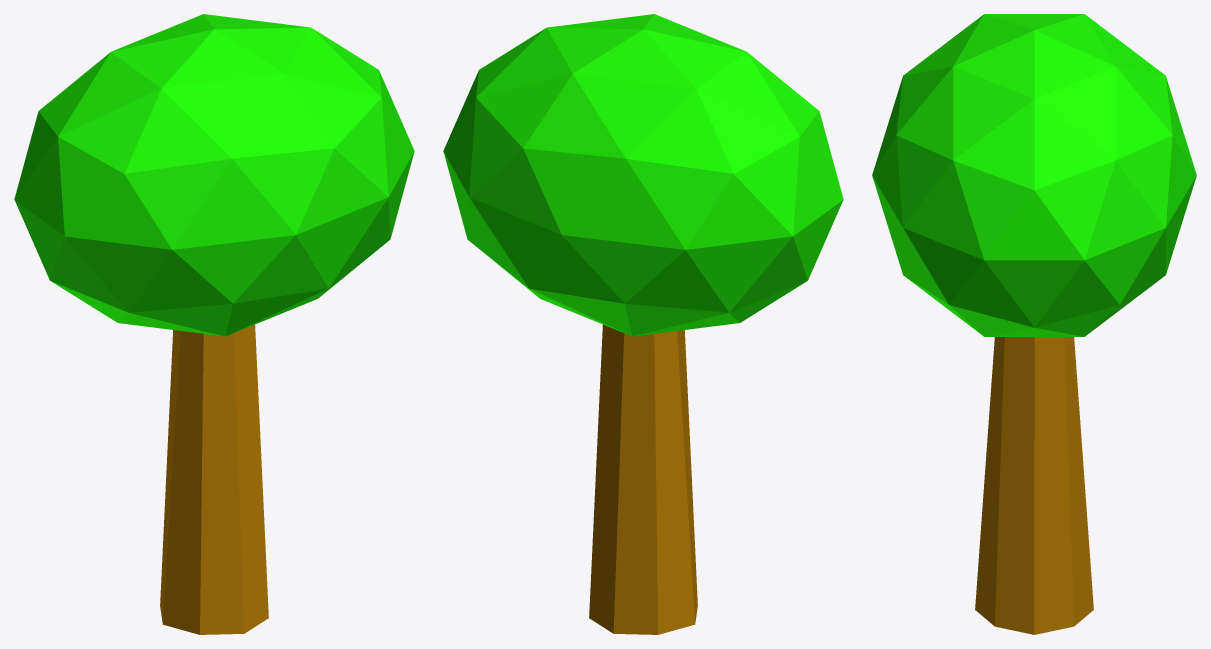
File: Tree_1.fbx
3 views of the same model, side by side, from view 1: azimuth 30°, elevation 25°; view 2: azimuth 150°, elevation 25°; view 3: azimuth 270°, elevation 25° (orthographic).
Visible parts, largest first — view 1: Leaf, Trunk; view 2: Leaf, Trunk; view 3: Leaf, Trunk.
Boxes of the visible parts, x1,y1,x2,y2 form: Leaf: (14,14,414,336); Trunk: (160,324,268,634); Leaf: (443,14,843,336); Trunk: (589,324,697,634); Leaf: (872,14,1196,336); Trunk: (975,337,1093,634).
Bounding box in the file's own units: 95.11 × 151 × 76.87.
